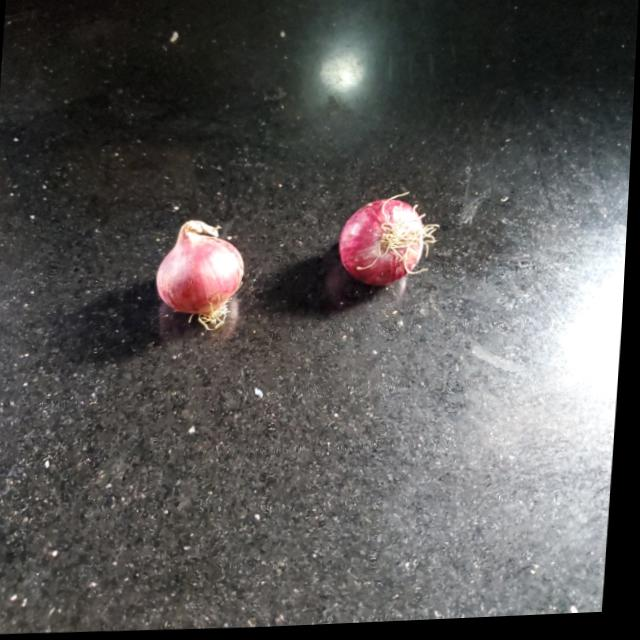onion: (156, 223, 249, 318), (340, 199, 432, 291)
